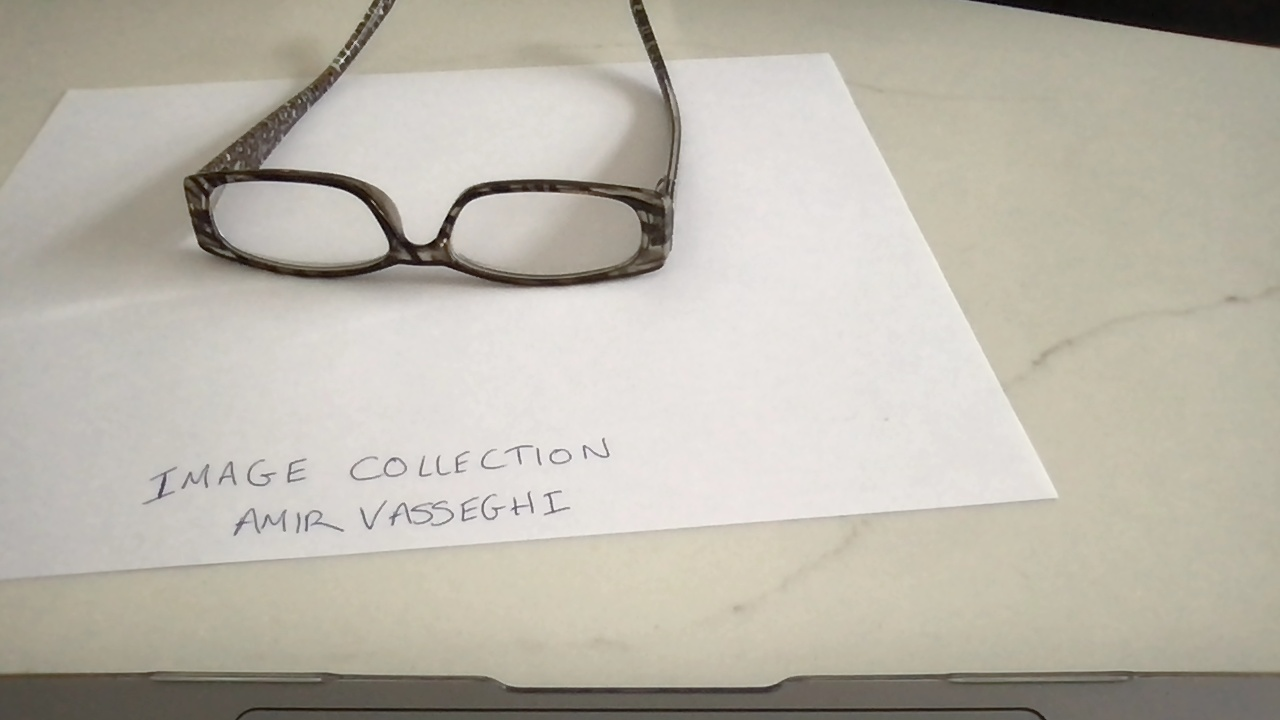glasses: (182, 3, 682, 287)
